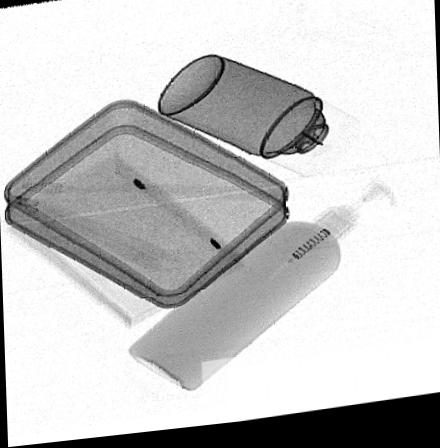Sprayer: (158, 60, 359, 184)
